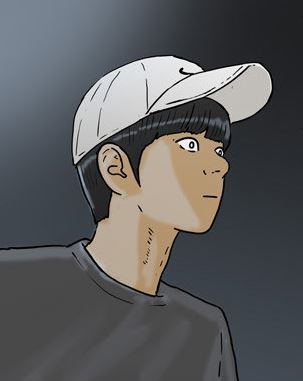hat: (69, 51, 278, 164)
